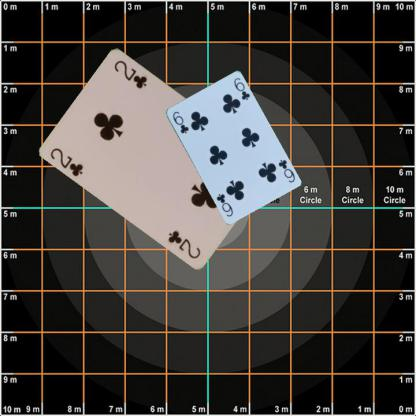2c: (48, 145, 85, 178)
6c: (275, 156, 296, 184), (170, 108, 189, 134)
